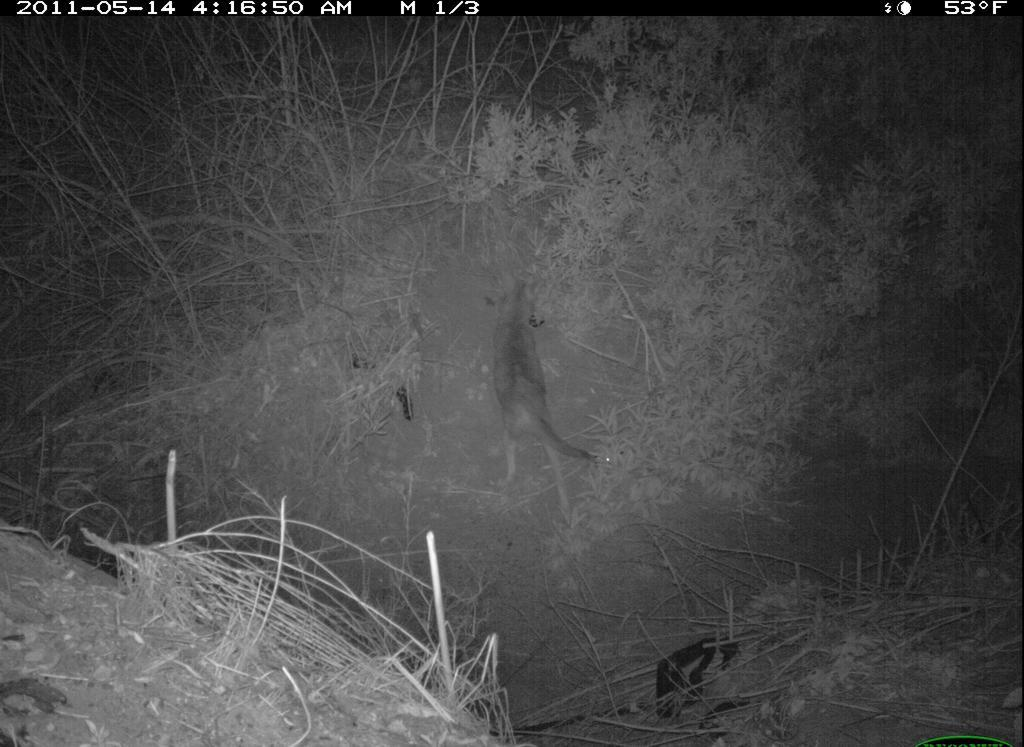coyote: (479, 272, 606, 525)
